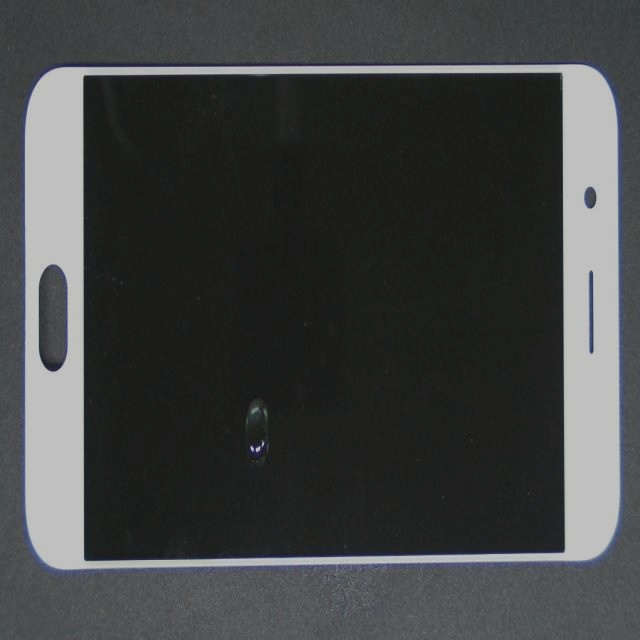oil: (136, 170, 373, 600)
